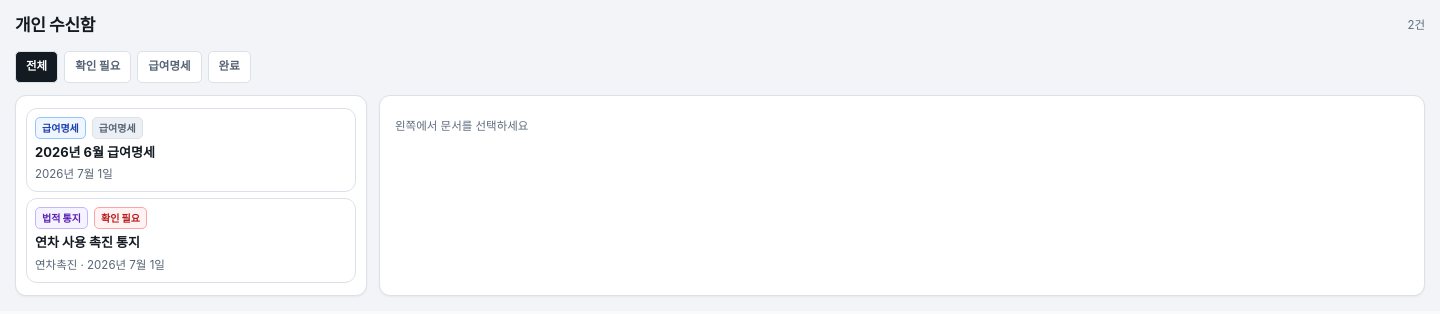
Test case: InboxBody › opens a readable payslip and renders its payload body
Click the text "2026년 6월 급여명세" at (95, 152), box [35,144,155,160]
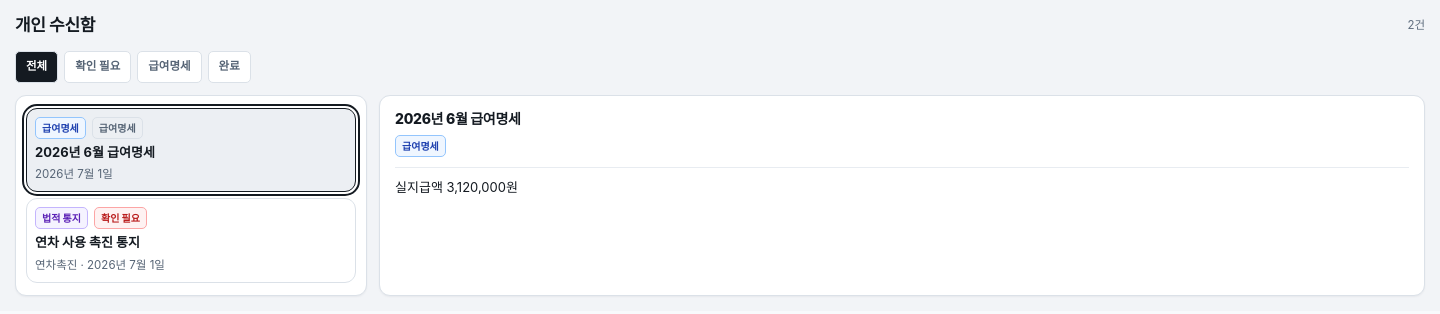
Now the text "실지급액 3,120,000원" is shown, box [395,178,518,194]
